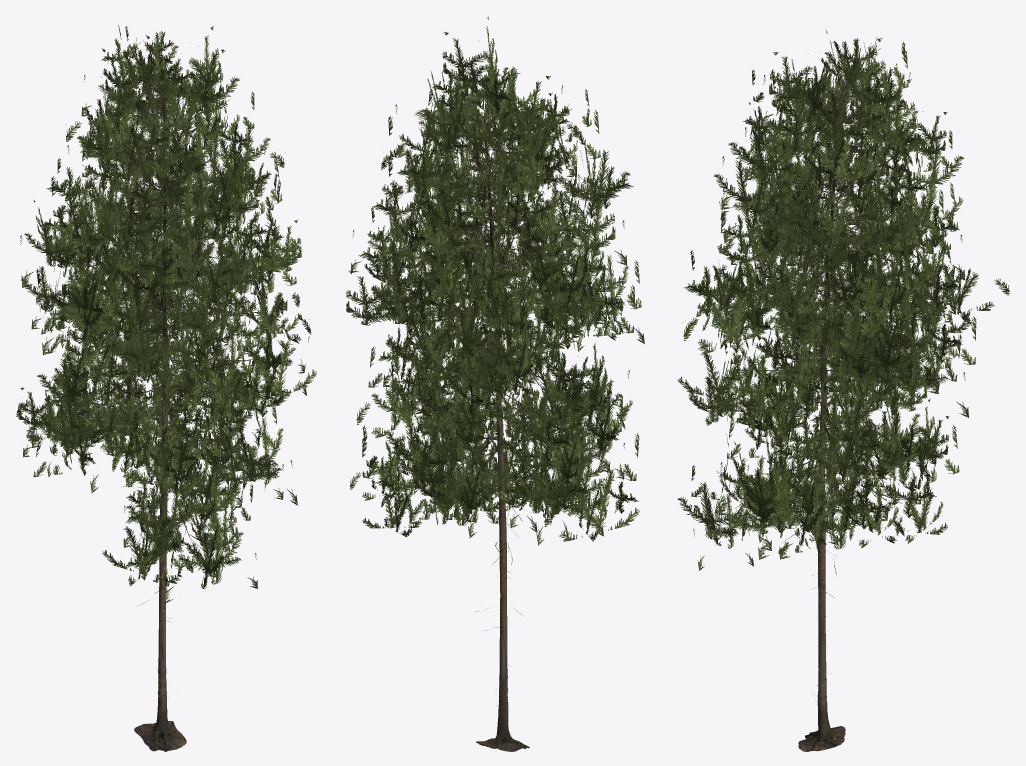
File: AlpineFir.glb
3 renders of one model, left to right at view 1: azimuth 30°, elevation 25°; view 2: azimuth 150°, elevation 25°; view 3: azimuth 270°, elevation 25°, orthographic.
Visible parts, largest first — view 1: Canopy, fir_tree_01_a_LOD0; view 2: Canopy, fir_tree_01_a_LOD0; view 3: Canopy, fir_tree_01_a_LOD0.
Part boxes in pixels (x1,y1,x2,y2): Canopy: (16, 25, 316, 603); fir_tree_01_a_LOD0: (65, 69, 263, 751); Canopy: (346, 16, 644, 545); fir_tree_01_a_LOD0: (399, 88, 600, 751); Canopy: (677, 30, 1009, 574); fir_tree_01_a_LOD0: (729, 68, 933, 751).
Size of the model in its own units: 7.69 by 19.48 by 8.37.
4 materials, 4 textured.
